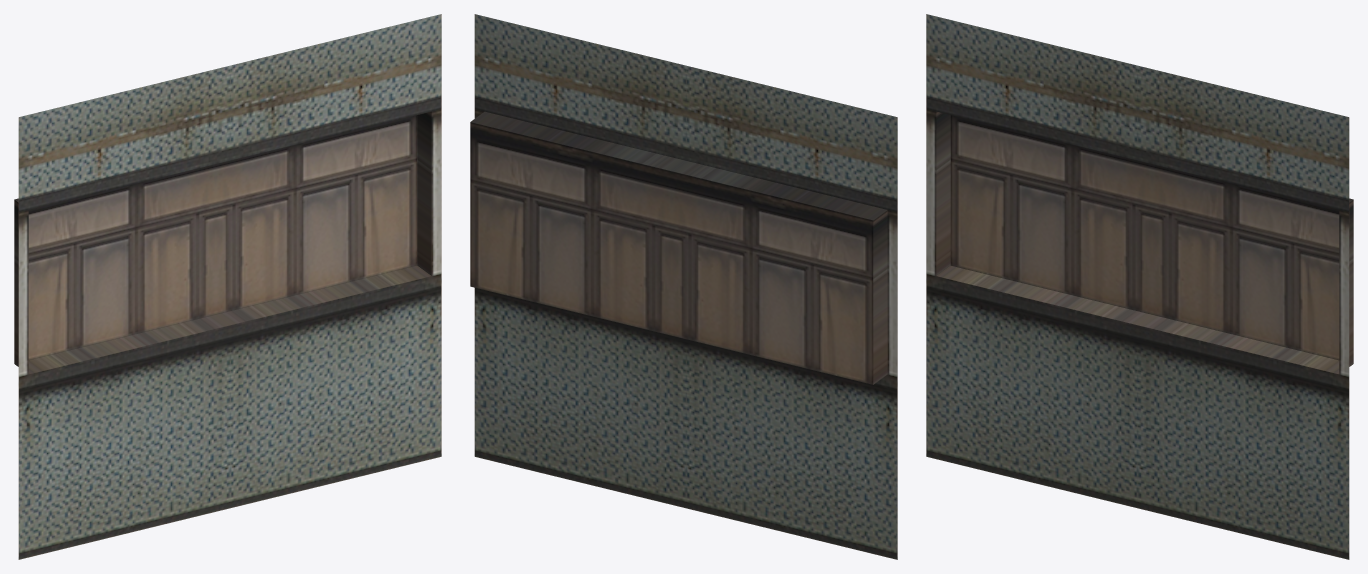
File: CT_Building_Piece_Single_04.fbx
The picture shows the model from 3 angles, left to right: view 1: azimuth 30°, elevation 25°; view 2: azimuth 150°, elevation 25°; view 3: azimuth 330°, elevation 25°; orthographic projection.
Visible parts, largest first — view 1: CT_Building_Piece_Single_04; view 2: CT_Building_Piece_Single_04; view 3: CT_Building_Piece_Single_04.
Part boxes in pixels (bbox=[...]): CT_Building_Piece_Single_04: bbox=[14, 14, 441, 559]; CT_Building_Piece_Single_04: bbox=[470, 14, 897, 559]; CT_Building_Piece_Single_04: bbox=[926, 14, 1353, 559].
Size of the model in its own units: 256 by 256 by 15.
